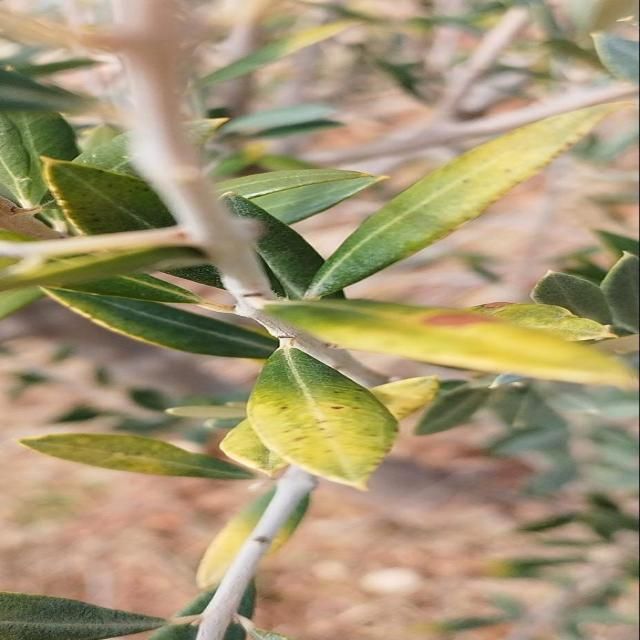Peacock Eye: (317, 106, 610, 299), (285, 300, 627, 386), (247, 348, 438, 488)
